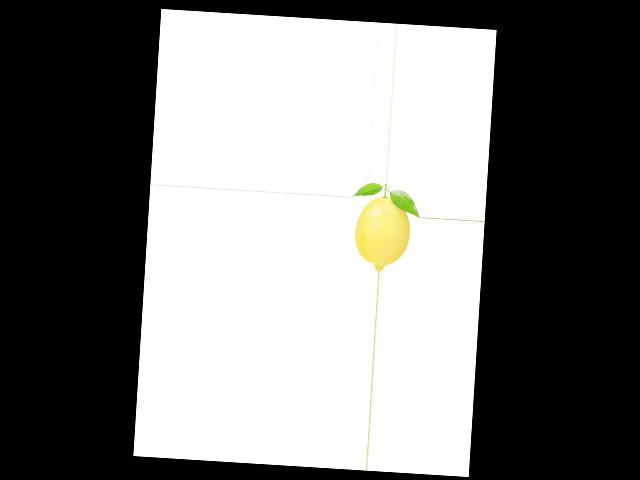lemon: (350, 187, 415, 272)
